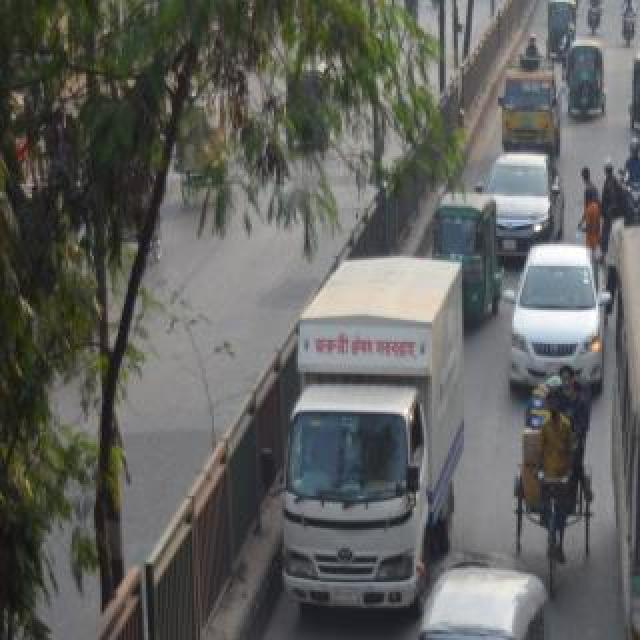bus: (626, 344, 640, 640)
car: (512, 247, 606, 371), (495, 140, 561, 252)
motorbike: (620, 134, 640, 222), (516, 30, 544, 70), (620, 0, 640, 46), (586, 0, 608, 34)
van: (261, 286, 447, 618), (494, 61, 560, 147)
